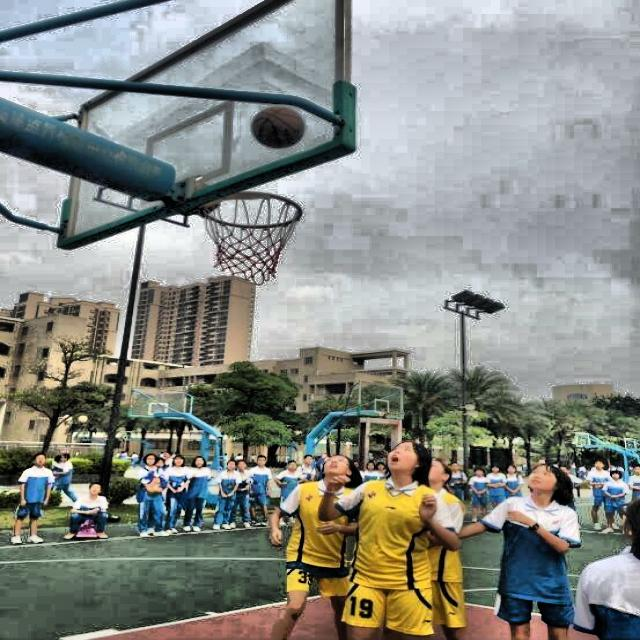board: (252, 106, 307, 149)
rim: (195, 191, 304, 280)
